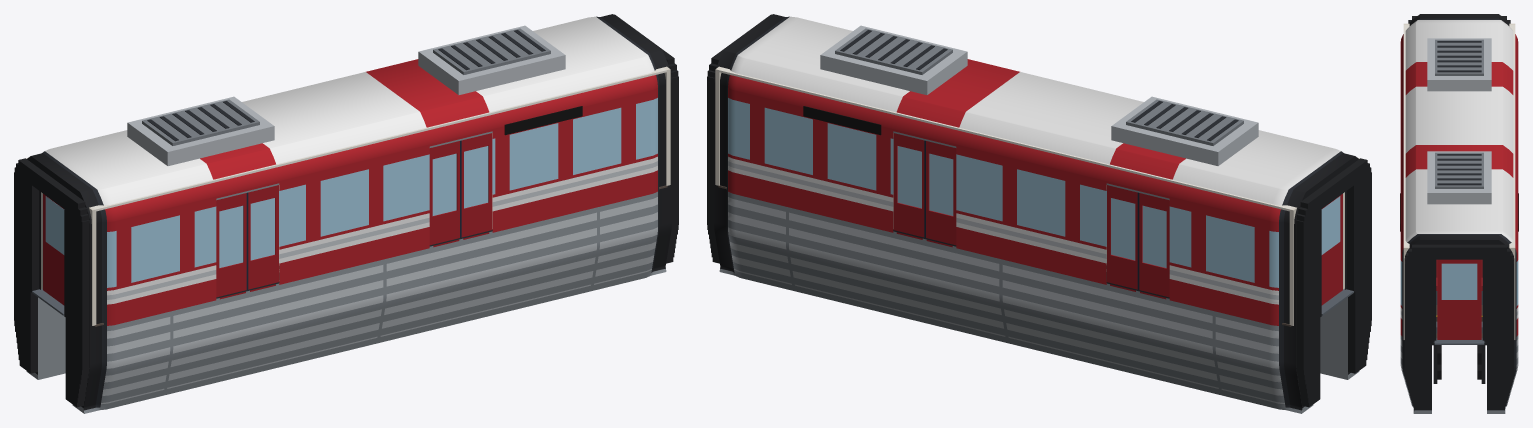
Rendered from seattle_car.obj.
3 renders of one model, left to right at view 1: azimuth 30°, elevation 25°; view 2: azimuth 150°, elevation 25°; view 3: azimuth 270°, elevation 25°, orthographic. The views are drawn at different scales.
Parts seen in each view (by area): view 1: SHELL, SHELL_roof, SHELL_diaphragm, EXTERNAL_DOOR_4_CG_DR1_TOGGLE_TL_-0.59_X, EXTERNAL_DOOR_10_CG_DR2_TOGGLE_TL_-0.59_X, EXTERNAL_DOOR_11_CG_DR2_TOGGLE_TL_0.59_X, EXTERNAL_DOOR_5_CG_DR1_TOGGLE_TL_0.59_X, SHELL_ceiling, CONNECTING_DOOR_1_CG_CR_TOGGLE_TL_0.98_Z, SHELL_end, SHELL_sign; view 2: SHELL, SHELL_roof, SHELL_diaphragm, EXTERNAL_DOOR_7_CG_DL1_TOGGLE_TL_-0.59_X, EXTERNAL_DOOR_13_CG_DL2_TOGGLE_TL_-0.59_X, EXTERNAL_DOOR_14_CG_DL2_TOGGLE_TL_0.59_X, EXTERNAL_DOOR_8_CG_DL1_TOGGLE_TL_0.59_X, SHELL_ceiling, CONNECTING_DOOR_1_CG_CR_TOGGLE_TL_0.98_Z, SHELL_end, SHELL_sign; view 3: SHELL, SHELL_diaphragm, SHELL_roof, CONNECTING_DOOR_2_CG_CF_TOGGLE_TL_0.98_Z, SHELL_ceiling, BOGEY_FRONT, SHELL_end, SHELL_gangway, FLOOR.
Boxes of the visible parts, x1=… form: SHELL: x1=26, y1=14, x2=671, y2=413; SHELL_roof: x1=127, y1=25, x2=565, y2=165; SHELL_diaphragm: x1=14, y1=14, x2=678, y2=407; EXTERNAL_DOOR_4_CG_DR1_TOGGLE_TL_-0.59_X: x1=216, y1=192, x2=248, y2=297; EXTERNAL_DOOR_10_CG_DR2_TOGGLE_TL_-0.59_X: x1=429, y1=140, x2=461, y2=245; EXTERNAL_DOOR_11_CG_DR2_TOGGLE_TL_0.59_X: x1=461, y1=133, x2=492, y2=237; EXTERNAL_DOOR_5_CG_DR1_TOGGLE_TL_0.59_X: x1=248, y1=185, x2=278, y2=289; SHELL_ceiling: x1=26, y1=67, x2=666, y2=211; CONNECTING_DOOR_1_CG_CR_TOGGLE_TL_0.98_Z: x1=43, y1=194, x2=64, y2=305; SHELL_end: x1=41, y1=66, x2=670, y2=325; SHELL_sign: x1=504, y1=106, x2=582, y2=135; SHELL: x1=714, y1=14, x2=1359, y2=413; SHELL_roof: x1=820, y1=25, x2=1258, y2=165; SHELL_diaphragm: x1=707, y1=14, x2=1371, y2=407; EXTERNAL_DOOR_7_CG_DL1_TOGGLE_TL_-0.59_X: x1=1137, y1=192, x2=1169, y2=297; EXTERNAL_DOOR_13_CG_DL2_TOGGLE_TL_-0.59_X: x1=924, y1=140, x2=956, y2=245; EXTERNAL_DOOR_14_CG_DL2_TOGGLE_TL_0.59_X: x1=893, y1=133, x2=924, y2=237; EXTERNAL_DOOR_8_CG_DL1_TOGGLE_TL_0.59_X: x1=1107, y1=185, x2=1137, y2=289; SHELL_ceiling: x1=718, y1=67, x2=1359, y2=211; CONNECTING_DOOR_1_CG_CR_TOGGLE_TL_0.98_Z: x1=1321, y1=194, x2=1342, y2=305; SHELL_end: x1=715, y1=66, x2=1344, y2=325; SHELL_sign: x1=803, y1=106, x2=881, y2=135; SHELL: x1=1400, y1=14, x2=1518, y2=413; SHELL_diaphragm: x1=1405, y1=16, x2=1513, y2=410; SHELL_roof: x1=1427, y1=38, x2=1491, y2=204; CONNECTING_DOOR_2_CG_CF_TOGGLE_TL_0.98_Z: x1=1437, y1=259, x2=1481, y2=339; SHELL_ceiling: x1=1403, y1=24, x2=1515, y2=246; BOGEY_FRONT: x1=1433, y1=343, x2=1485, y2=383; SHELL_end: x1=1403, y1=23, x2=1515, y2=339; SHELL_gangway: x1=1434, y1=338, x2=1484, y2=344; FLOOR: x1=1404, y1=305, x2=1514, y2=344.
Bounding box in the file's own units: 12.32 × 4.66 × 2.66.
1 material, 1 textured.
